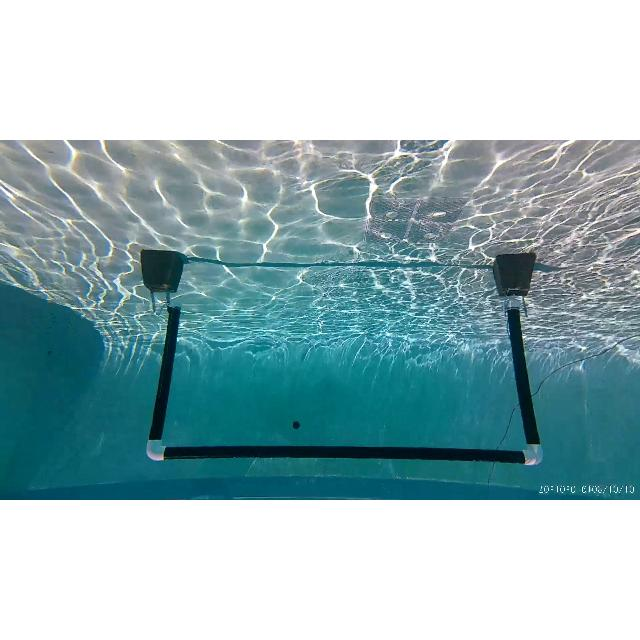prequal gate: (146, 299, 544, 465)
prequal gate leg l: (486, 252, 550, 466)
prequal gate leg r: (131, 245, 193, 463)
